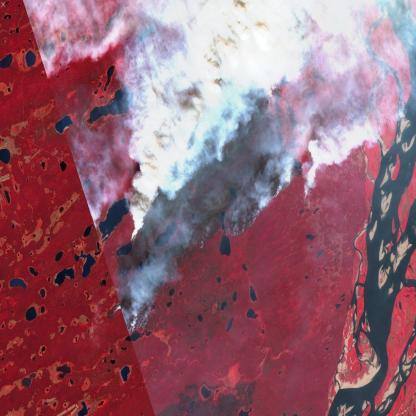fire: (128, 42, 318, 245), (109, 294, 152, 343)
